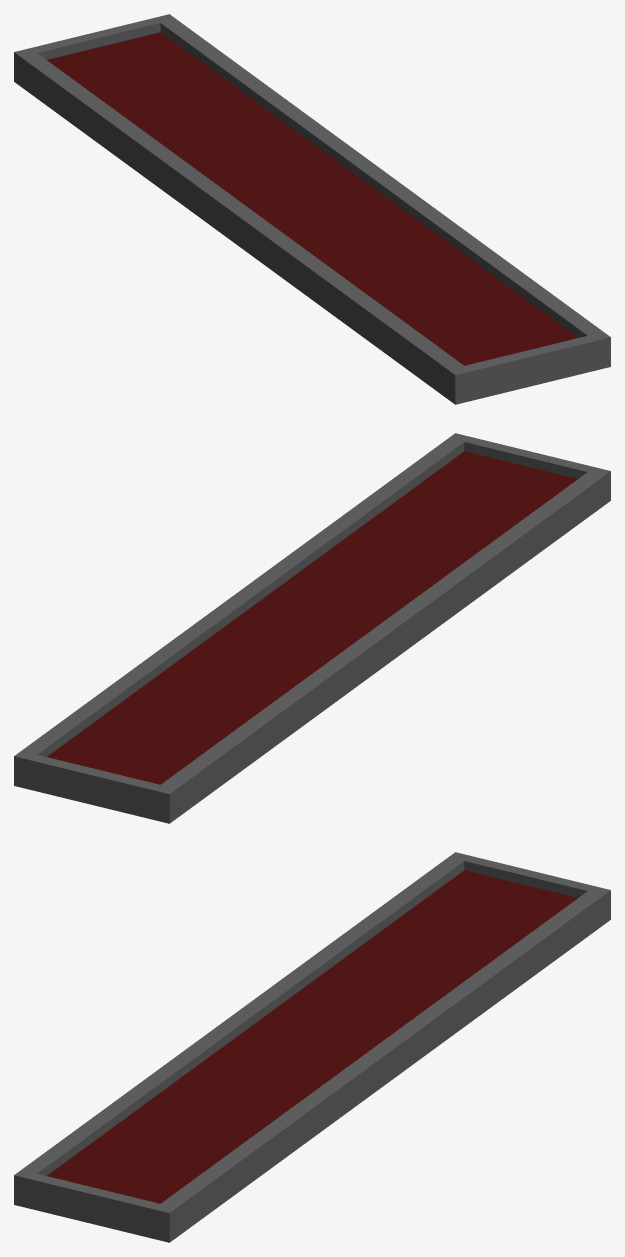
The model's file is Tree_ground.fbx.
The picture shows the model from 3 angles, top to bottom: view 1: azimuth 30°, elevation 25°; view 2: azimuth 150°, elevation 25°; view 3: azimuth 330°, elevation 25°; orthographic projection.
Visible parts, largest first — view 1: Plane; view 2: Plane; view 3: Plane.
Part boxes in pixels (box(x1,y1,x2,y2)): Plane: box(14, 14, 610, 404); Plane: box(14, 433, 610, 823); Plane: box(14, 852, 610, 1242).
Size of the model in its own units: 162 by 29.73 by 796.
